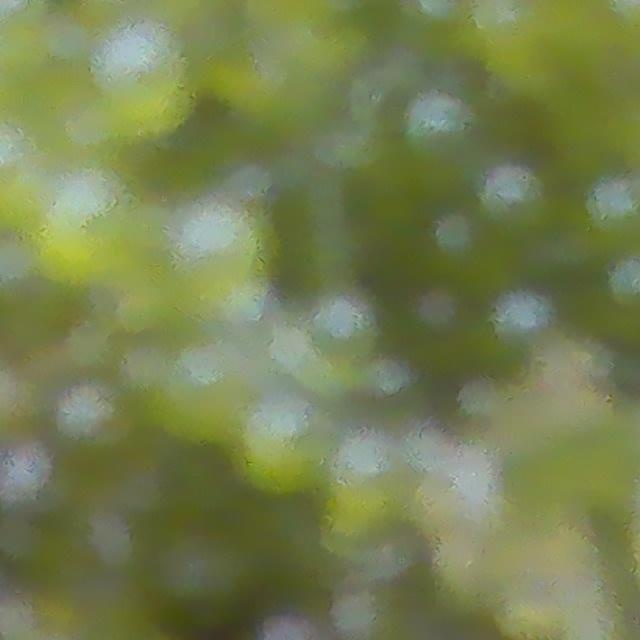SeaGrape: (30, 169, 152, 283), (161, 213, 285, 313), (86, 28, 195, 133), (232, 389, 334, 501), (473, 158, 554, 239), (51, 377, 133, 456), (311, 290, 384, 359), (402, 90, 471, 160), (486, 283, 553, 345), (584, 174, 640, 245), (426, 211, 481, 274), (408, 283, 465, 339), (392, 0, 464, 34), (607, 255, 640, 311)
